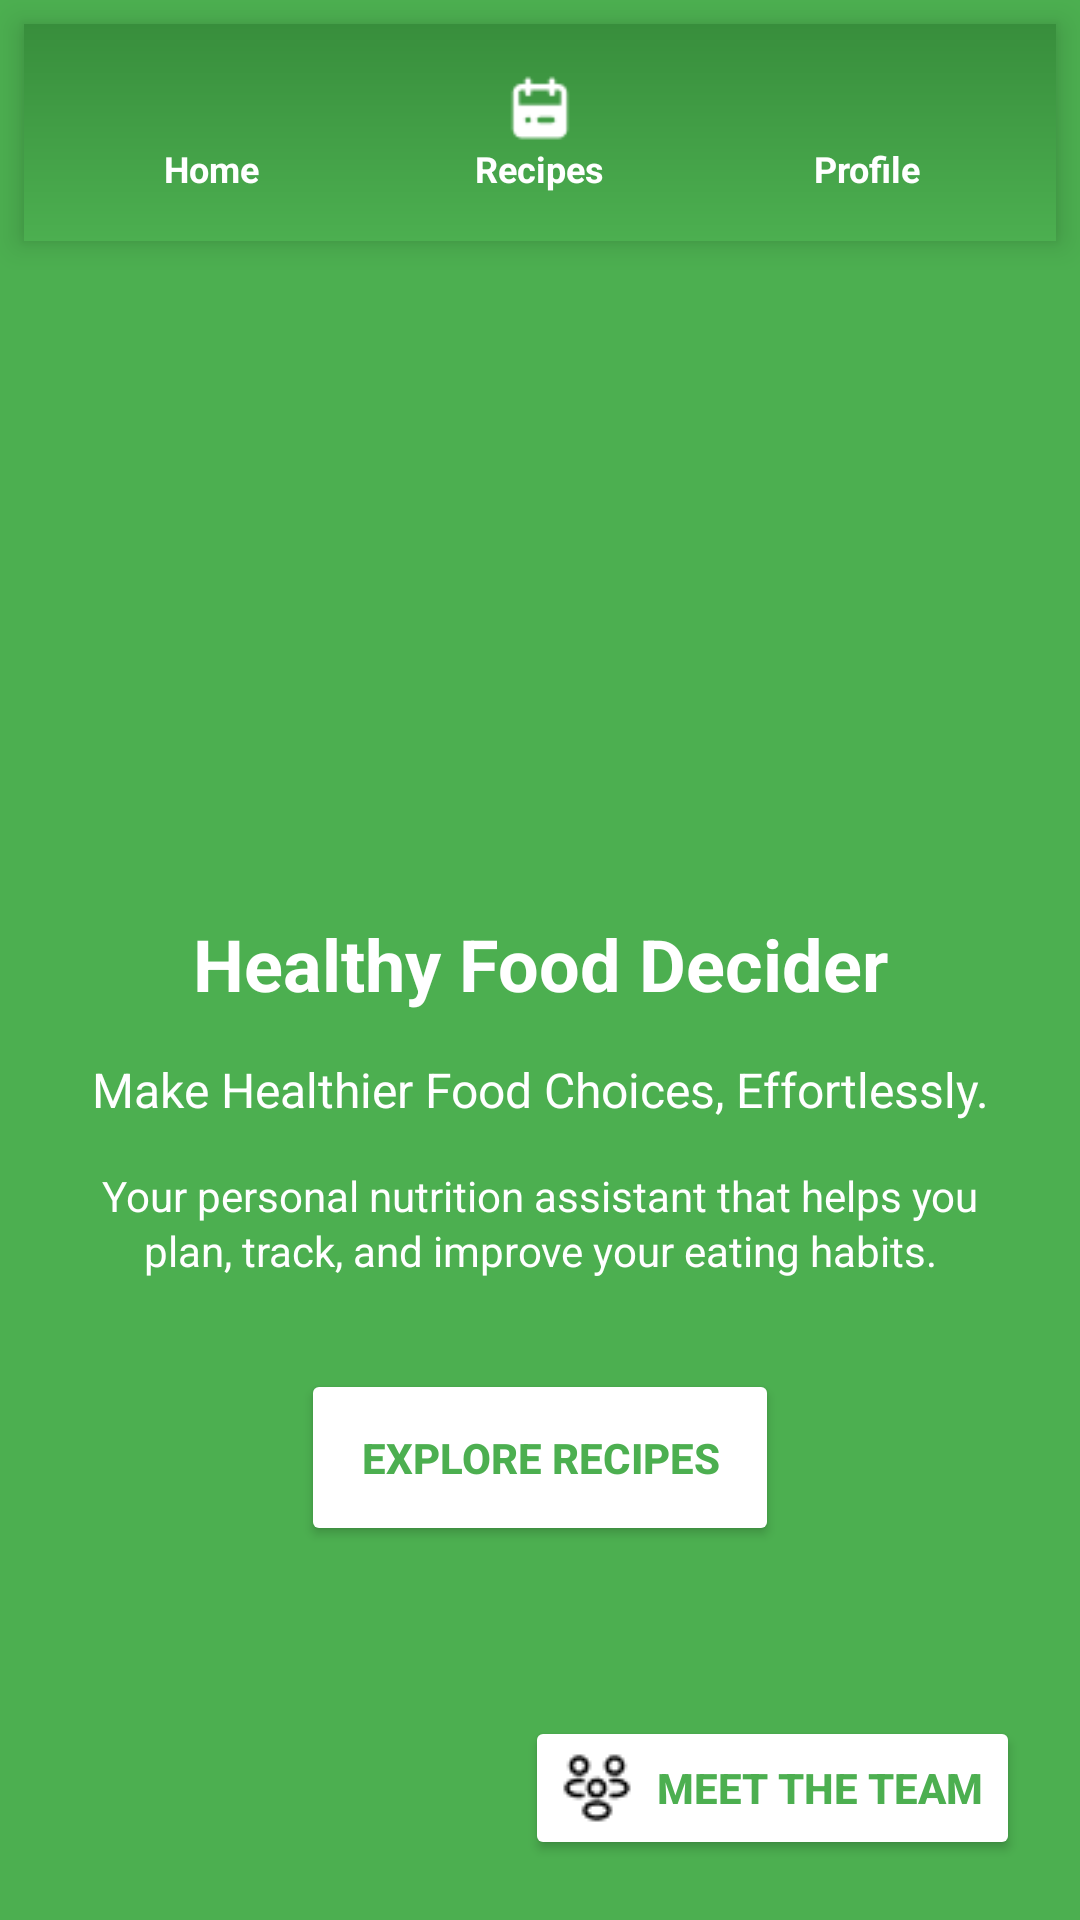

Icons on this 1080 × 1920 Android screen, each with its box as [left=x1, top=y1, right=x2, bottom=y2]:
Meal Planner: [left=511, top=76, right=569, bottom=140]
